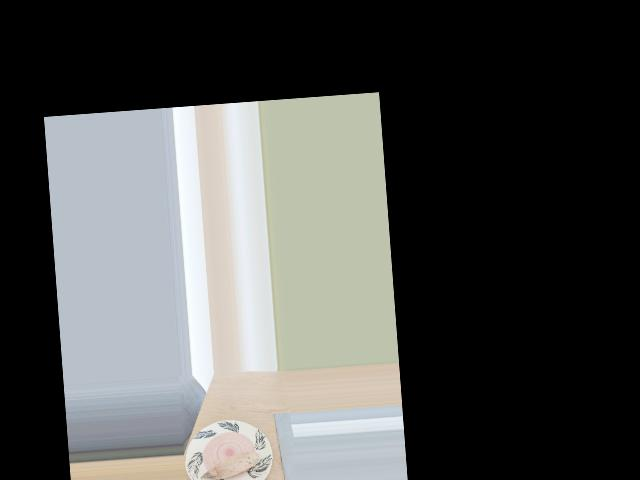sweet_potato: (204, 447, 259, 480)
